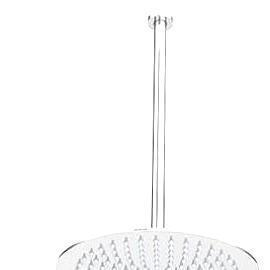Ducha: (42, 0, 269, 269)
